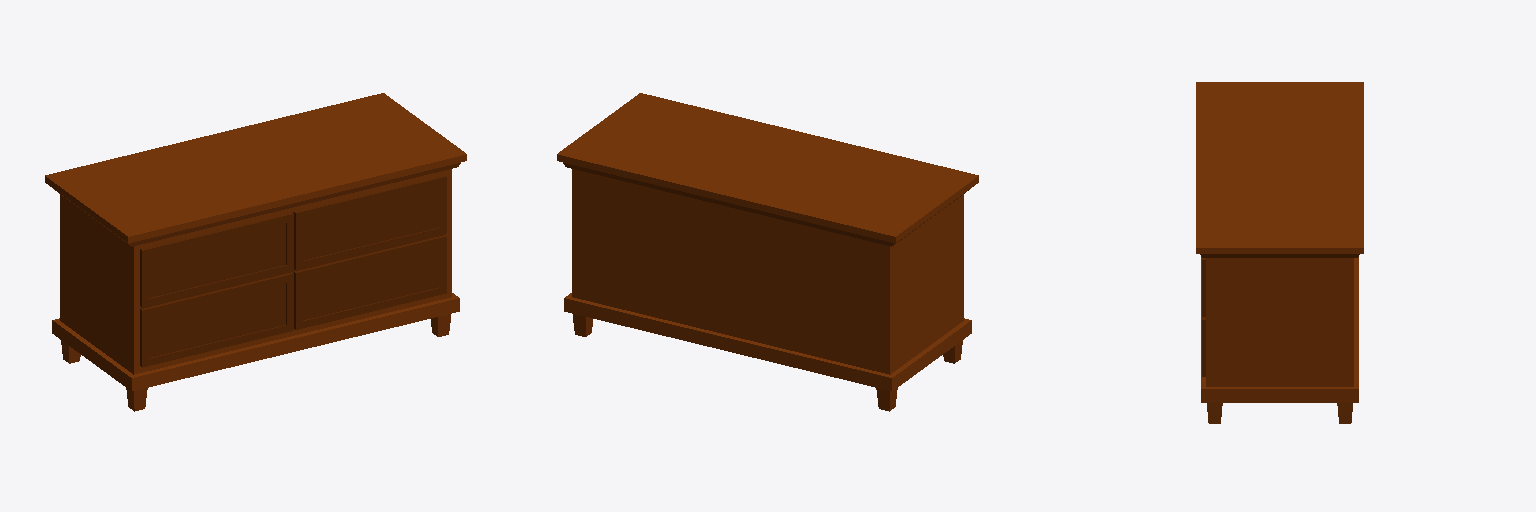
The model's file is kleiner_schrank.obj.
The picture shows the model from 3 angles: view 1: azimuth 30°, elevation 25°; view 2: azimuth 150°, elevation 25°; view 3: azimuth 270°, elevation 25°; orthographic projection.
Parts seen in each view (by area): view 1: Schrank.001, Cube; view 2: Schrank.001; view 3: Schrank.001.
Boxes of the visible parts, x1,y1,x2,y2 form: Schrank.001: [45, 93, 466, 411]; Cube: [140, 175, 446, 367]; Schrank.001: [557, 93, 978, 411]; Schrank.001: [1196, 82, 1363, 423].
Size of the model in its own units: 2.48 by 1.27 by 1.06.